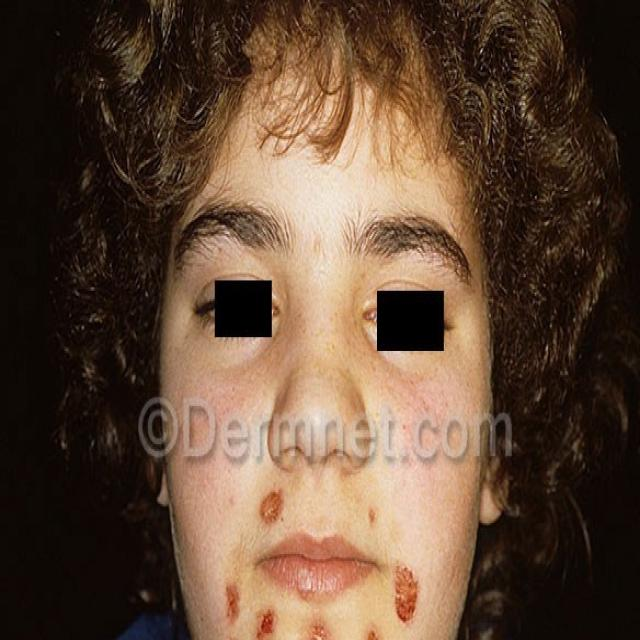Acne: (381, 537, 417, 603), (220, 563, 254, 618), (262, 474, 293, 519), (353, 602, 387, 640), (298, 604, 333, 640), (257, 592, 281, 640)
